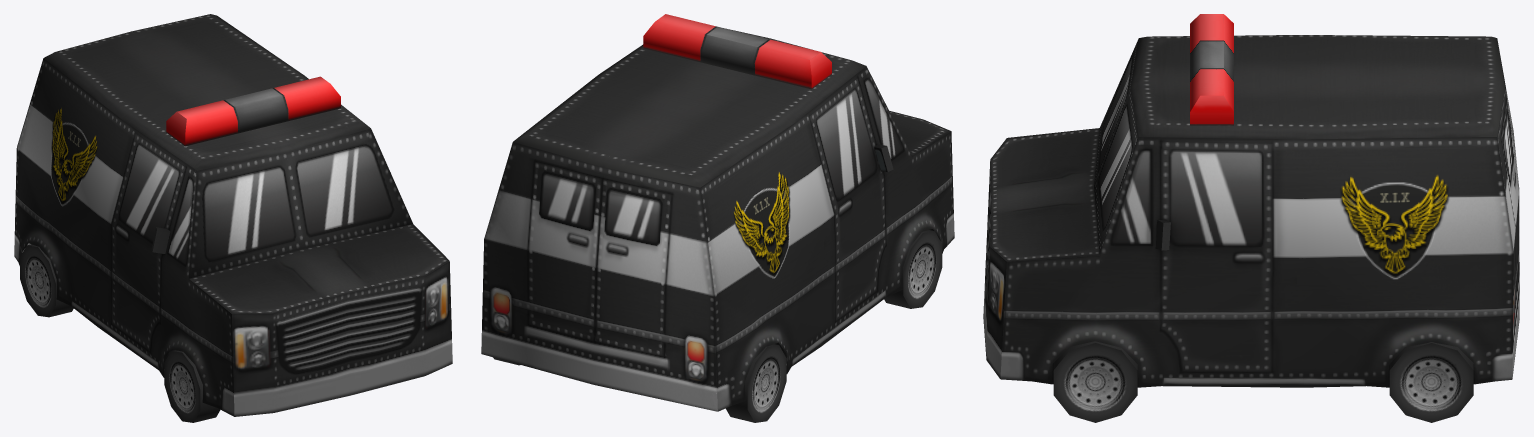
Rendered from armour.glb.
3 renders of one model, left to right at view 1: azimuth 30°, elevation 25°; view 2: azimuth 150°, elevation 25°; view 3: azimuth 270°, elevation 25°, orthographic. The views are drawn at different scales.
Parts seen in each view (by area): view 1: car2, long_red, car02_wheel04, car02_wheel02; view 2: car2, long_red, car02_wheel02, car02_wheel04; view 3: car2, car02_wheel03, car02_wheel01, long_red.
Part boxes in pixels (<box>): car2: <box>14,14,452,416</box>; long_red: <box>166,76,340,146</box>; car02_wheel04: <box>164,350,220,422</box>; car02_wheel02: <box>20,244,73,317</box>; car2: <box>481,28,954,411</box>; long_red: <box>643,14,831,89</box>; car02_wheel02: <box>725,344,786,422</box>; car02_wheel04: <box>884,230,942,308</box>; car2: <box>983,35,1519,387</box>; car02_wheel03: <box>1053,341,1137,422</box>; car02_wheel01: <box>1389,342,1473,422</box>; long_red: <box>1190,14,1233,125</box>.
Bounding box in the file's own units: 1.87 × 1.88 × 3.05.
1 material, 1 textured.
